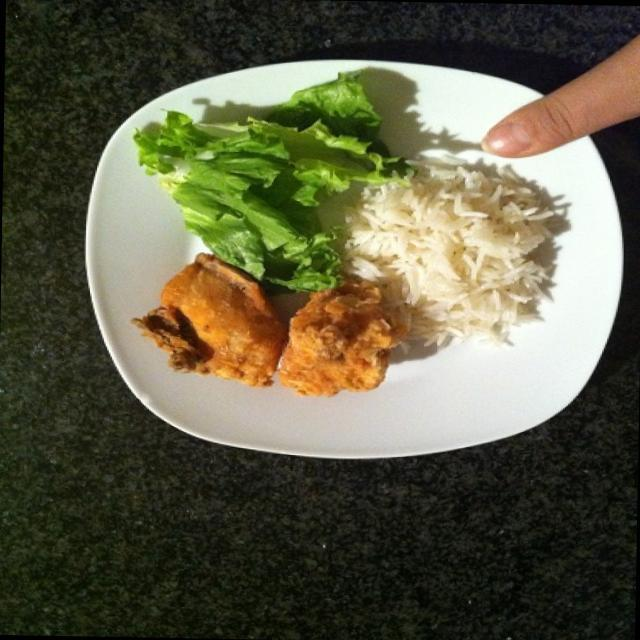Finger: (474, 69, 624, 161)
Lettuce: (131, 66, 387, 265)
Rice: (364, 168, 576, 328)
